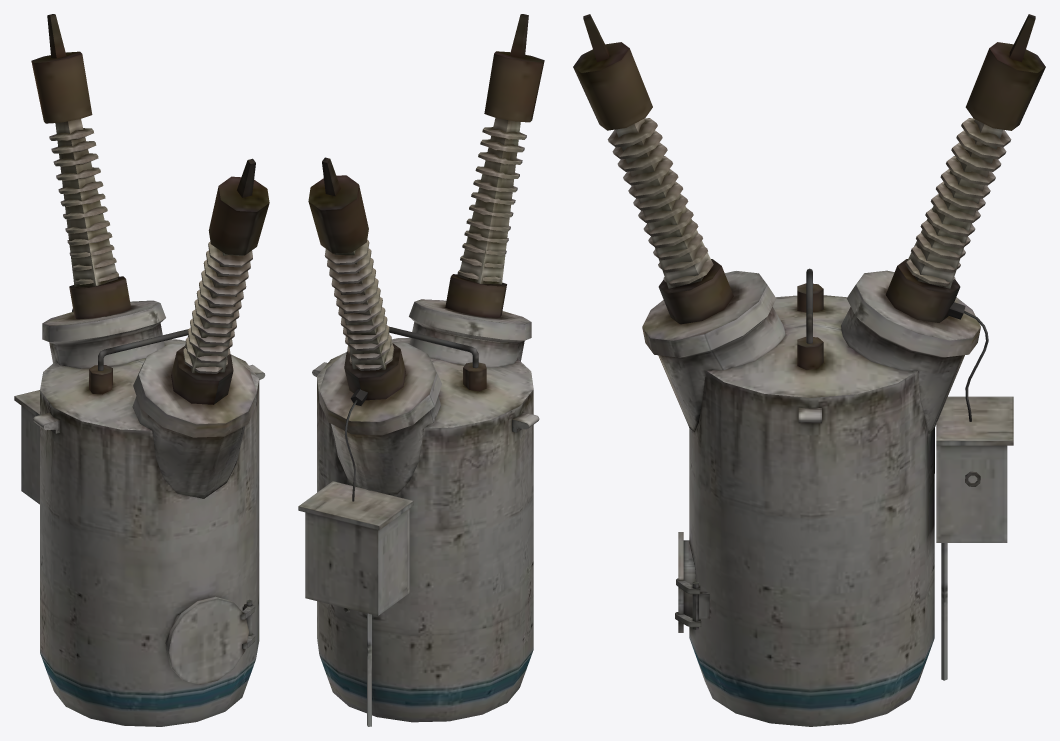
The model's file is substation_circuitbreaker01a.glb.
The picture shows the model from 3 angles, left to right: view 1: azimuth 30°, elevation 25°; view 2: azimuth 150°, elevation 25°; view 3: azimuth 270°, elevation 25°; orthographic projection. The views are drawn at different scales.
Parts seen in each view (by area): view 1: 0_substation02; view 2: 0_substation02; view 3: 0_substation02.
Part boxes in pixels (x1,y1,x2,y2): 0_substation02: (14,14,269,726); 0_substation02: (298,14,544,726); 0_substation02: (573,14,1045,726).
Size of the model in its own units: 3.07 by 7.98 by 5.13.
1 material, 1 textured.
